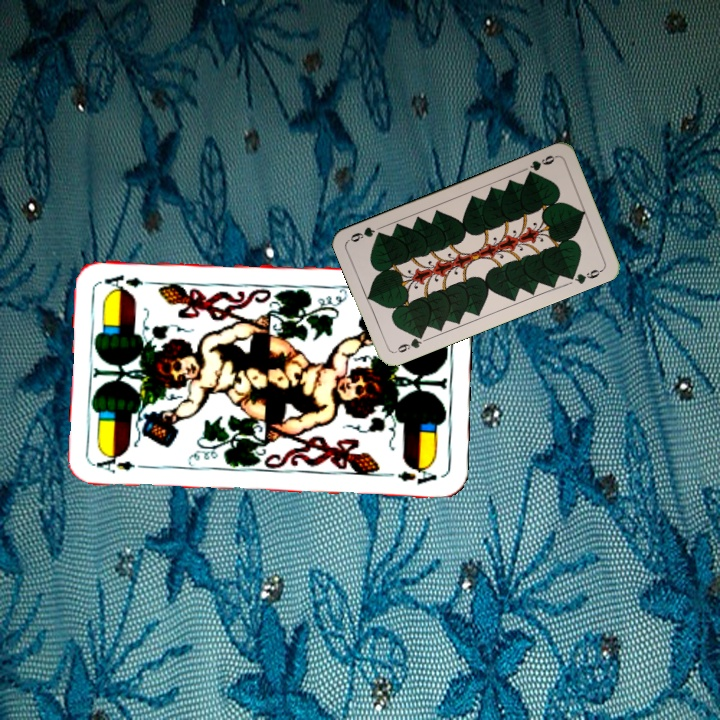EA: (92, 452, 138, 475)
G9: (523, 151, 559, 179), (391, 330, 426, 356)
